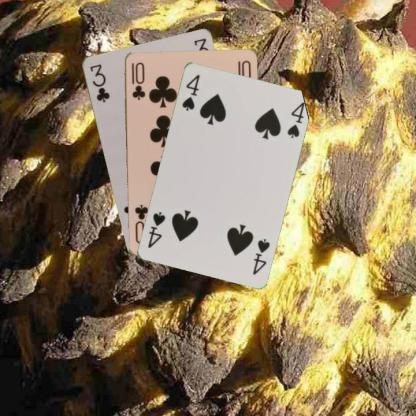10c: (129, 59, 147, 101)
3c: (87, 61, 111, 104)
4s: (179, 71, 201, 112), (250, 235, 271, 276)
